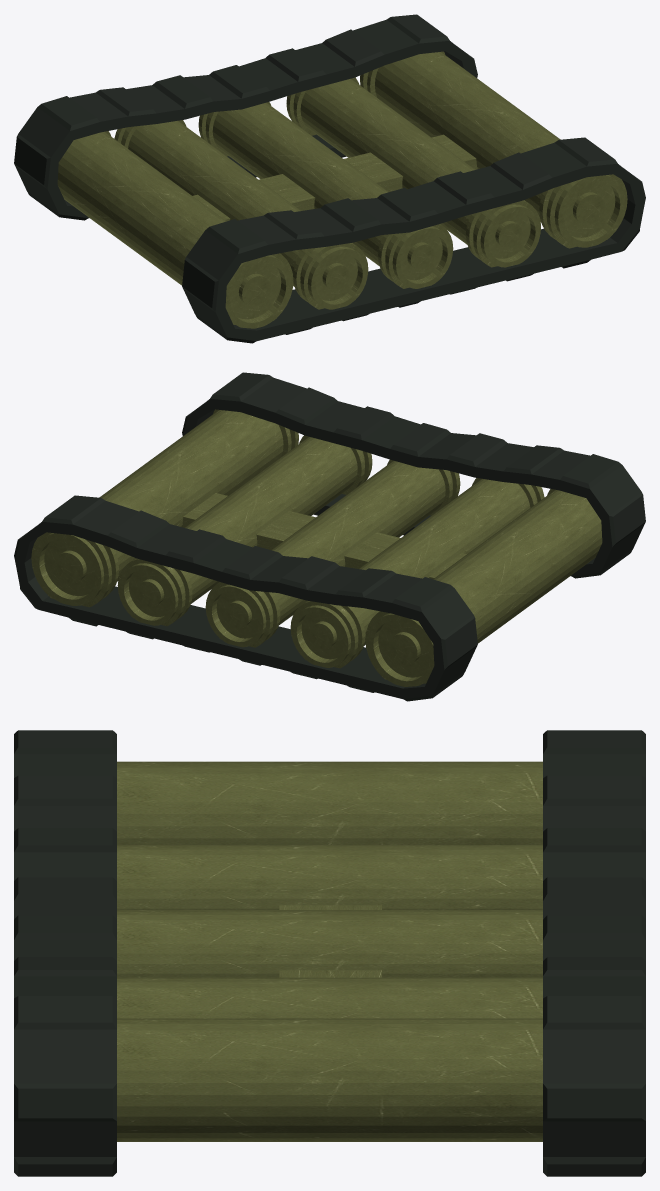
The model's file is EngineFrame.fbx.
3 views of the same model, one above another, from view 1: azimuth 30°, elevation 25°; view 2: azimuth 150°, elevation 25°; view 3: azimuth 270°, elevation 25° (orthographic). The views are drawn at different scales.
Parts seen in each view (by area): view 1: TreadMount, Tread.001, Tread; view 2: TreadMount, Tread, Tread.001; view 3: TreadMount, Tread, Tread.001.
Boxes of the visible parts, bbox=[...] form: TreadMount: bbox=[57, 51, 627, 328]; Tread.001: bbox=[182, 137, 645, 343]; Tread: bbox=[14, 14, 477, 220]; TreadMount: bbox=[31, 409, 602, 686]; Tread: bbox=[14, 495, 477, 701]; Tread.001: bbox=[182, 372, 645, 578]; TreadMount: bbox=[117, 761, 542, 1141]; Tread: bbox=[543, 730, 645, 1176]; Tread.001: bbox=[14, 730, 116, 1176].
Size of the model in its own units: 1532 by 339 by 1228.
